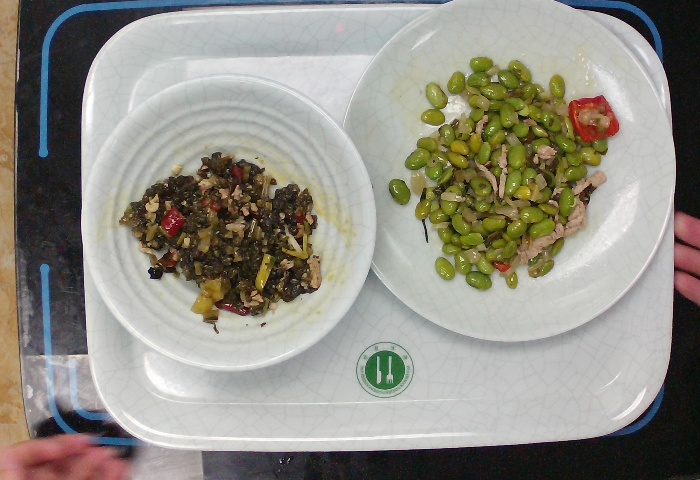JYsf-Da_Yuan_Pan: (324, 1, 684, 358)
JYsf-Xiao_Tang_Wan: (78, 69, 379, 376)
